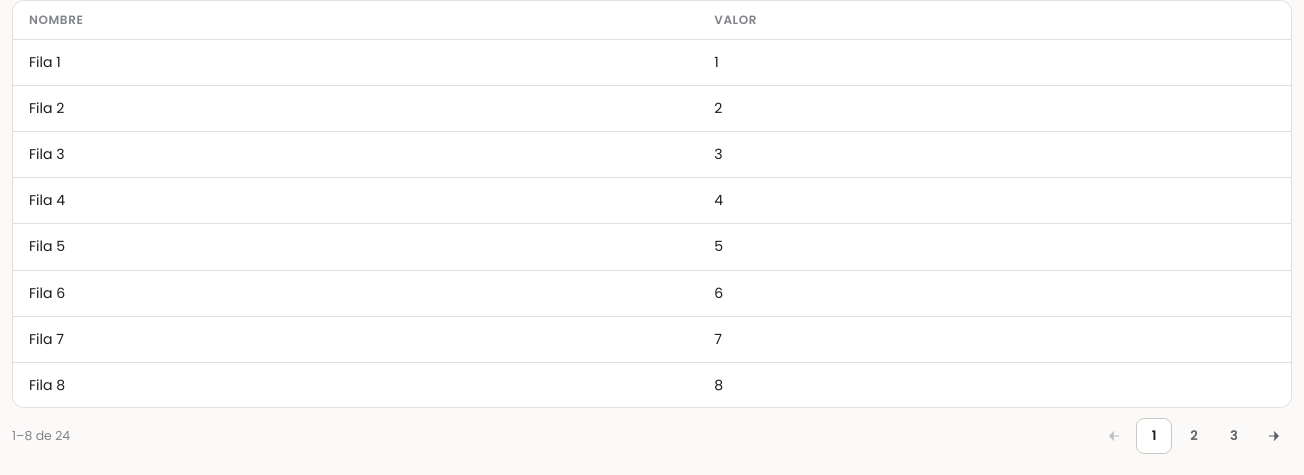
Test: DataTable › navega entre páginas numeradas
Click the button named "Página 3": point(1234, 436) [1216,418,1252,454]
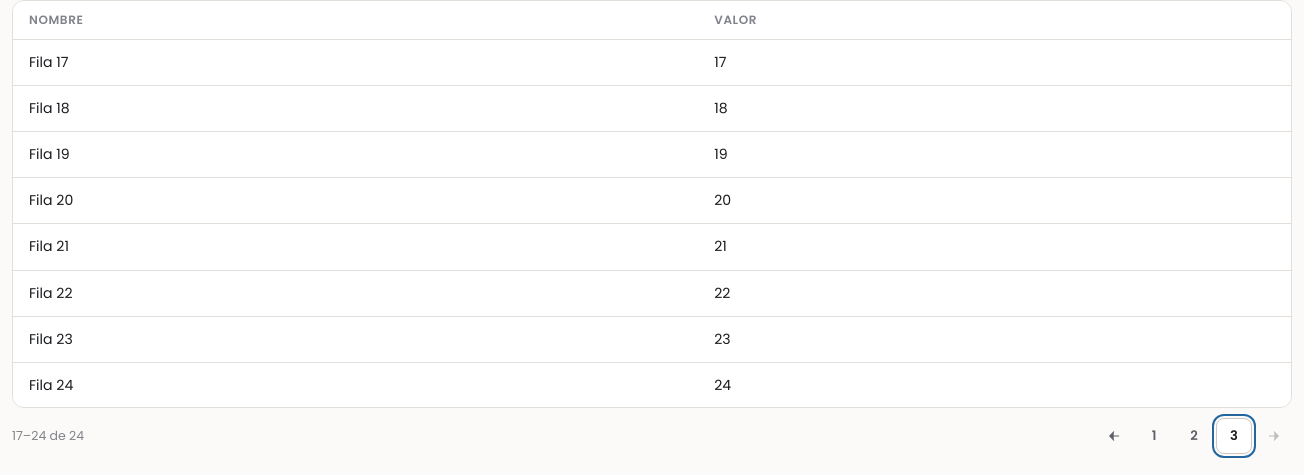
expect the text "17–24 de 24" is shown: met, box [12,426,84,445]
expect the text "Fila 17" is shown: met, box [13,40,698,86]
expect the button named "Página siguiente" is disabled: met, box [1256,418,1292,454]
